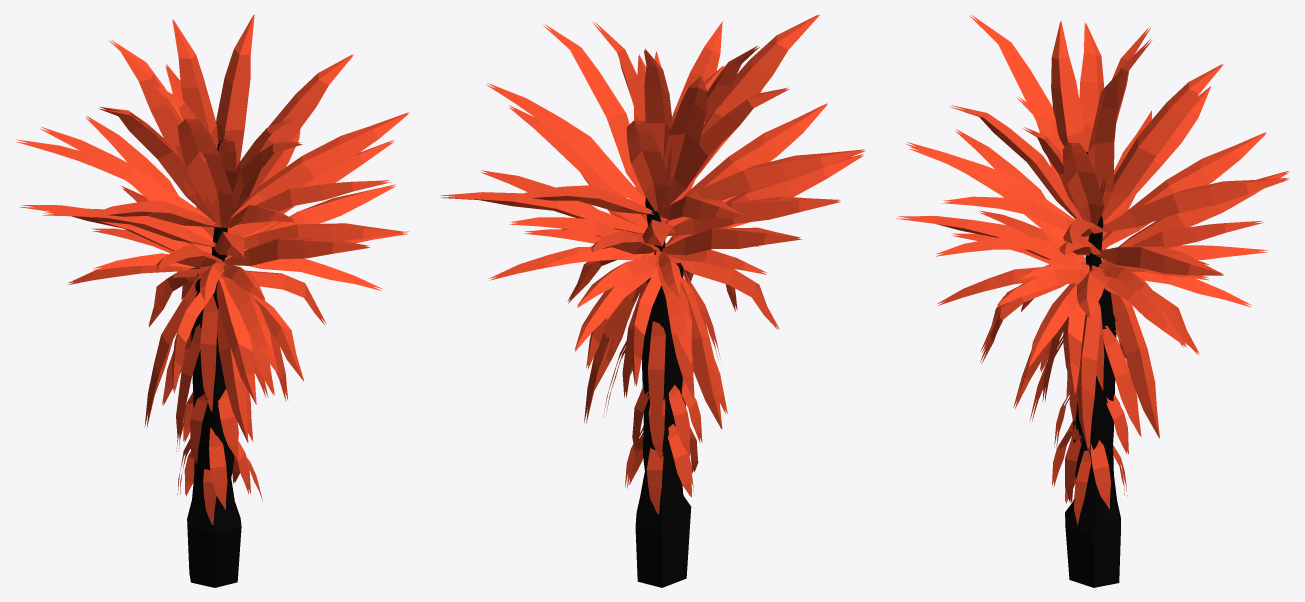
File: SM_Tree_Yucca_B.fbx
3 views of the same model, side by side, from view 1: azimuth 30°, elevation 25°; view 2: azimuth 150°, elevation 25°; view 3: azimuth 270°, elevation 25° (orthographic). The views are drawn at different scales.
Parts seen in each view (by area): view 1: SM_Tree_Yucca_B; view 2: SM_Tree_Yucca_B; view 3: SM_Tree_Yucca_B.
Boxes of the visible parts, x1=… form: SM_Tree_Yucca_B: x1=16, y1=14, x2=409, y2=587; SM_Tree_Yucca_B: x1=440, y1=14, x2=865, y2=587; SM_Tree_Yucca_B: x1=896, y1=14, x2=1289, y2=587.
Bounding box in the file's own units: 2.08 × 3 × 2.01.
